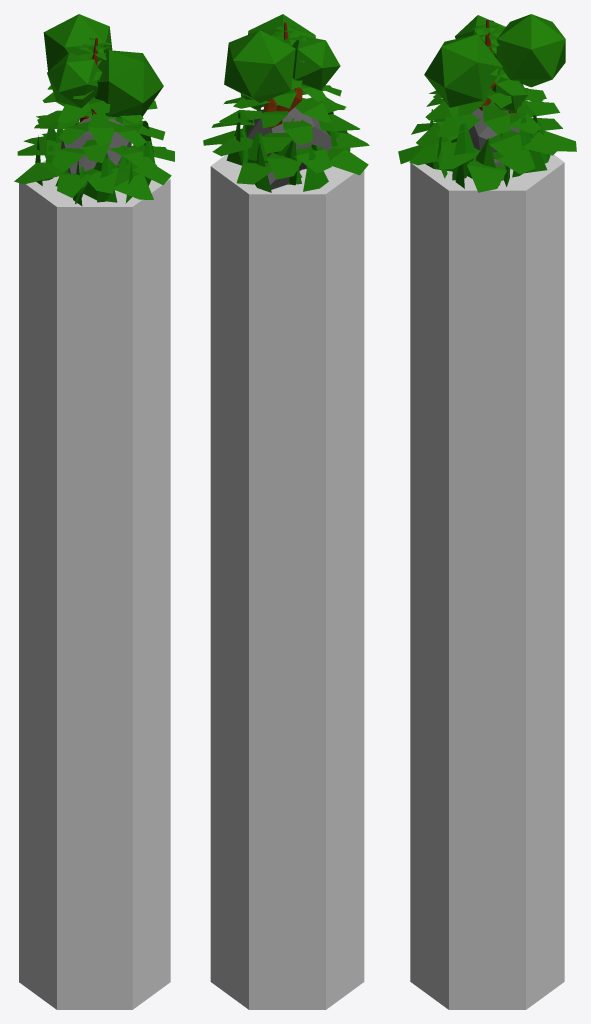
The model's file is Assets1.fbx.
The picture shows the model from 3 angles, left to right: view 1: azimuth 30°, elevation 25°; view 2: azimuth 150°, elevation 25°; view 3: azimuth 270°, elevation 25°; orthographic projection. The views are drawn at different scales.
Parts seen in each view (by area): view 1: Hexgon, Sapin, ForestTree, Algaes, Rock, Grass; view 2: Hexgon, Sapin, ForestTree, Grass, Algaes, Rock; view 3: Hexgon, Sapin, ForestTree, Grass, Algaes, Rock.
Boxes of the visible parts, x1,y1,x2,y2 form: Hexgon: (19, 160, 170, 1009); Sapin: (14, 37, 174, 199); ForestTree: (43, 14, 163, 121); Algaes: (42, 117, 155, 203); Rock: (61, 117, 131, 182); Grass: (35, 129, 145, 205); Hexgon: (210, 154, 364, 1009); Sapin: (203, 22, 369, 184); ForestTree: (224, 14, 340, 129); Grass: (226, 125, 344, 192); Algaes: (235, 108, 350, 189); Rock: (246, 107, 337, 170); Hexgon: (410, 155, 564, 1009); Sapin: (398, 19, 576, 192); ForestTree: (424, 14, 565, 113); Grass: (425, 104, 550, 188); Algaes: (430, 109, 539, 180); Rock: (456, 105, 519, 158).
Size of the model in its own units: 231 by 1386 by 231.
